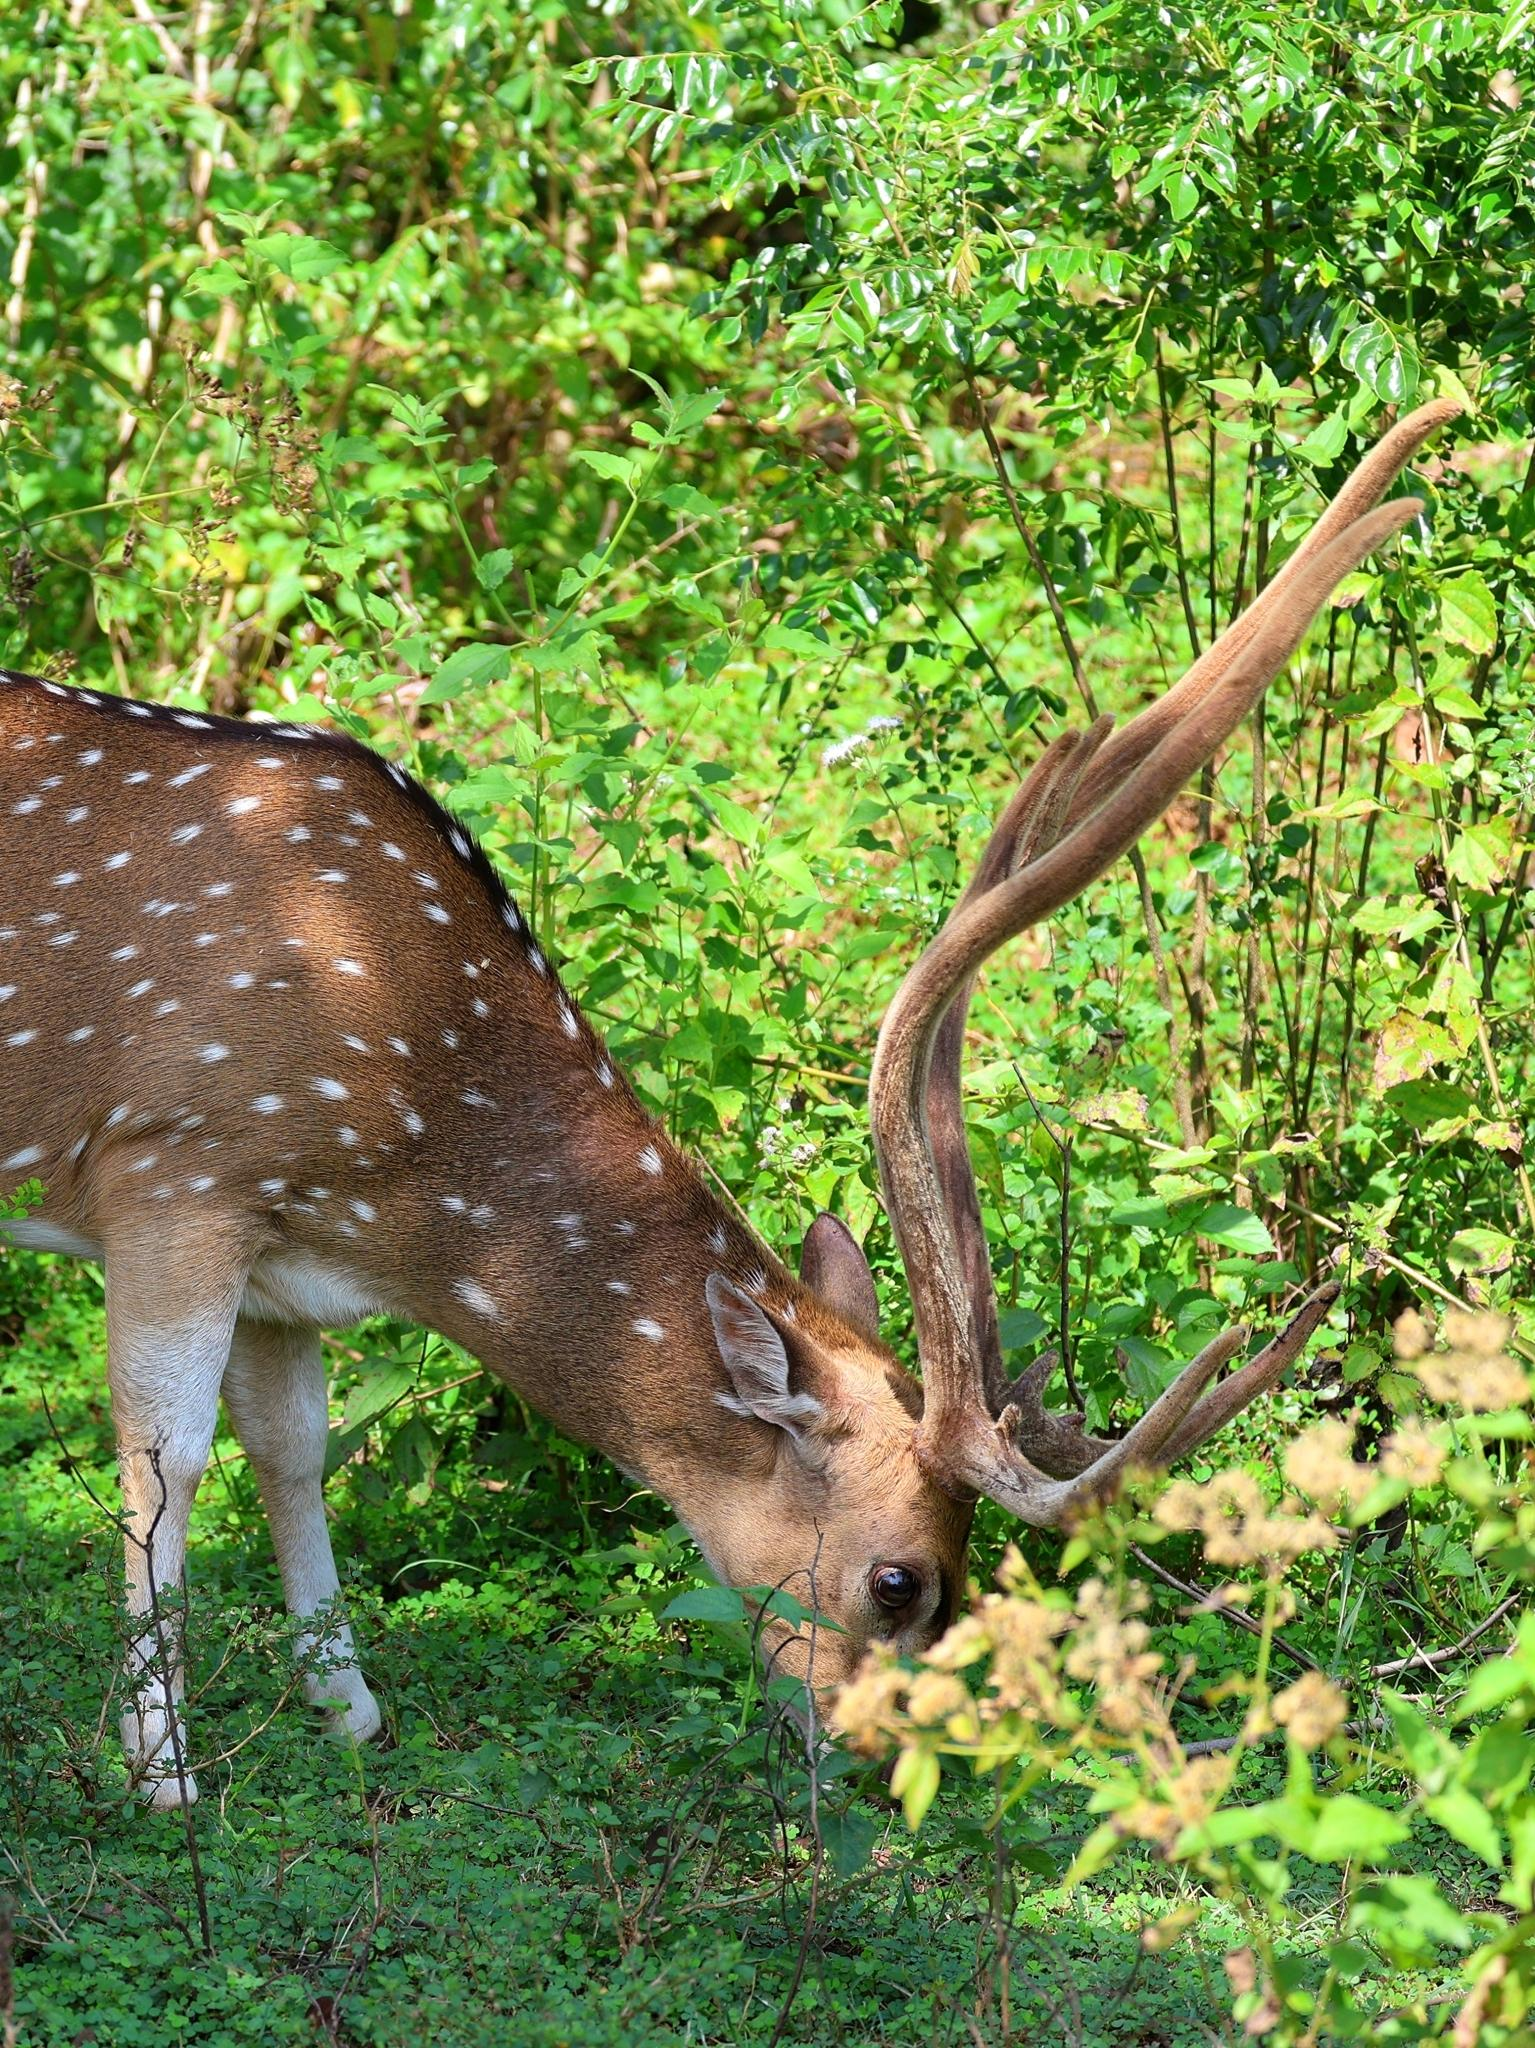Deer: (0, 398, 1454, 1804)
